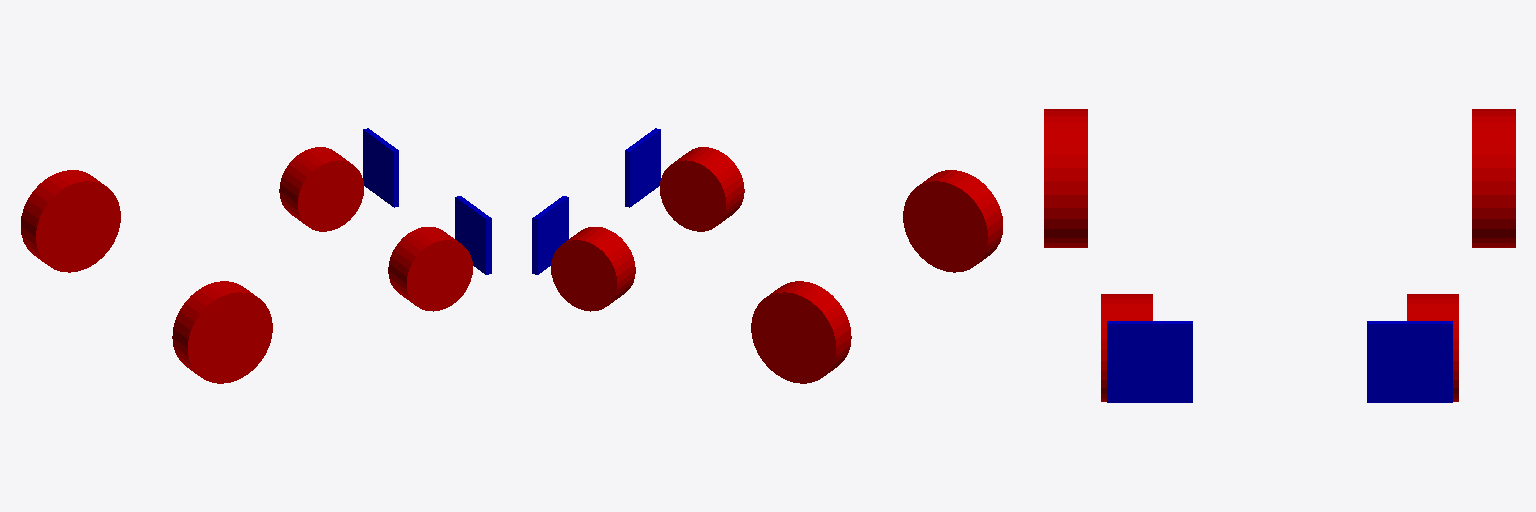
robot.urdf — albert:
<?xml version="1.0" encoding="utf-8"?>
<!-- =================================================================================== -->
<!-- |    This document was autogenerated by xacro from mmrobot.urdf.xacro             | -->
<!-- |    EDITING THIS FILE BY HAND IS NOT RECOMMENDED                                 | -->
<!-- =================================================================================== -->
<robot name="albert">
  <material name="Boxer_Black">
    <color rgba="0.1 0.1 0.1 1.0"/>
  </material>
  <material name="Boxer_Blue">
    <color rgba="0.0 0.0 0.8 1.0"/>
  </material>
  <material name="Boxer_Purple">
    <color rgba="0.6 0.0 0.6 1.0"/>
  </material>
  <material name="Boxer_Green">
    <color rgba="0.0 0.8 0.0 1.0"/>
  </material>
  <material name="Boxer_LimeGreen">
    <color rgba="0.3 0.8 0.3 1.0"/>
  </material>
  <material name="Boxer_Grey">
    <color rgba="0.5 0.5 0.5 1.0"/>
  </material>
  <material name="Boxer_DarkGrey">
    <color rgba="0.3 0.3 0.3 1.0"/>
  </material>
  <material name="Boxer_Red">
    <color rgba="0.8 0.0 0.0 1.0"/>
  </material>
  <material name="Boxer_Pink">
    <color rgba="0.8 0.4 0.8 1.0"/>
  </material>
  <material name="Boxer_White">
    <color rgba="1.0 1.0 1.0 1.0"/>
  </material>
  <material name="Boxer_Yellow">
    <color rgba="0.8 0.8 0.0 1.0"/>
  </material>
  <material name="Boxer_GreyTransparent">
    <color rgba="0.5 0.5 0.5 0.5"/>
  </material>
  <link name="chassis_link">
    <inertial>
      <origin rpy="0 0 0" xyz="0 0 0.07"/>
      <mass value="250"/>
      <inertia ixx="2.3" ixy="0" ixz="0" iyy="3.35" iyz="0.00" izz="1.22"/>
    </inertial>
    <visual>
      <origin rpy="0 0 0" xyz="0 0 0"/>
      <geometry>
        <mesh filename="meshes/visual/chassis_link.dae"/>
      </geometry>
      <material name="">
        <color rgba="0.8 0.8 0.9 1"/>
      </material>
    </visual>
    <collision>
      <origin rpy="0 0 0" xyz="0 0 0"/>
      <geometry>
        <mesh filename="meshes/collision/chassis_link.STL"/>
      </geometry>
    </collision>
  </link>
  <!-- 0.27 in z direction because extrusion is 0.30, and plate is 0.1 -->
  <link name="rotacastor_right_link">
    <inertial>
      <origin rpy="0 0 0" xyz="0 0 0"/>
      <mass value="1"/>
      <inertia ixx="0.2" ixy="0" ixz="0" iyy="0.2" iyz="0" izz="0.2"/>
    </inertial>
    <visual>
      <origin rpy="0 1.5708 0" xyz="0 0 0"/>
      <geometry>
        <cylinder length="0.06" radius="0.0625"/>
      </geometry>
      <material name="Boxer_Red"/>
    </visual>
    <collision>
      <origin rpy="0 1.5708 0" xyz="0 0 0"/>
      <geometry>
        <cylinder length="0.001" radius="0.0625"/>
      </geometry>
    </collision>
  </link>
  <joint name="rotacastor_right_joint" type="continuous">
    <origin rpy="0 0 0" xyz="-0.177 -0.274 0.043"/>
    <parent link="chassis_link"/>
    <child link="rotacastor_right_link"/>
    <axis xyz="1 0 0"/>
    <dynamics damping="1.0"/>
  </joint>
  <link name="rotacastor_left_link">
    <inertial>
      <origin rpy="0 0 0" xyz="0 0 0"/>
      <mass value="1"/>
      <inertia ixx="0.2" ixy="0" ixz="0" iyy="0.2" iyz="0" izz="0.2"/>
    </inertial>
    <visual>
      <origin rpy="0 1.5708 0" xyz="0 0 0"/>
      <geometry>
        <cylinder length="0.06" radius="0.0625"/>
      </geometry>
      <material name="Boxer_Red"/>
    </visual>
    <collision>
      <origin rpy="0 1.5708 0" xyz="0 0 0"/>
      <geometry>
        <cylinder length="0.001" radius="0.0625"/>
      </geometry>
    </collision>
  </link>
  <joint name="rotacastor_left_joint" type="continuous">
    <origin rpy="0 0 0" xyz="0.177 -0.274 0.043"/>
    <parent link="chassis_link"/>
    <child link="rotacastor_left_link"/>
    <axis xyz="1 0 0"/>
    <dynamics damping="1.0"/>
  </joint>
  <link name="wheel_right_link">
    <inertial>
      <origin rpy="0 0 0" xyz="0 0 0"/>
      <mass value="10"/>
      <inertia ixx="0.2" ixy="0" ixz="0" iyy="0.2" iyz="0" izz="0.2"/>
    </inertial>
    <visual>
      <origin rpy="0 1.5708 0" xyz="0 0 0"/>
      <geometry>
        <cylinder length="0.05" radius="0.080"/>
      </geometry>
      <material name="Boxer_Red"/>
    </visual>
    <collision>
      <origin rpy="0 1.5708 0" xyz="0 0 0"/>
      <geometry>
        <cylinder length="0.001" radius="0.080"/>
      </geometry>
    </collision>
  </link>
  <joint name="wheel_right_joint" type="continuous">
    <origin rpy="0 0 0" xyz="-0.247 0.157 0.058"/>
    <parent link="chassis_link"/>
    <child link="wheel_right_link"/>
    <axis xyz="1 0 0"/>
    <limit effort="10000" velocity="1000"/>
    <dynamics damping="1.0"/>
  </joint>
  <link name="wheel_left_link">
    <inertial>
      <origin rpy="0 0 0" xyz="0 0 0"/>
      <mass value="10"/>
      <inertia ixx="0.2" ixy="0" ixz="0" iyy="0.2" iyz="0" izz="0.2"/>
    </inertial>
    <visual>
      <origin rpy="0 1.5708 0" xyz="0 0 0"/>
      <geometry>
        <cylinder length="0.05" radius="0.080"/>
      </geometry>
      <material name="Boxer_Red"/>
    </visual>
    <collision>
      <origin rpy="0 1.5708 0" xyz="0 0 0"/>
      <geometry>
        <cylinder length="0.001" radius="0.080"/>
      </geometry>
    </collision>
  </link>
  <joint name="wheel_left_joint" type="continuous">
    <origin rpy="0 0 0" xyz="0.247 0.157 0.058"/>
    <parent link="chassis_link"/>
    <child link="wheel_left_link"/>
    <axis xyz="1 0 0"/>
    <limit effort="10000" velocity="1000"/>
    <dynamics damping="1.0"/>
  </joint>
  <!-- Base link with no geometry or inertia, because KDL needs it
to be that way. -->
  <link name="base_link_ori">
    <inertial>
      <origin rpy="0 0 0" xyz="0 0 0"/>
      <mass value="0.001"/>
      <inertia ixx="0.2" ixy="0" ixz="0" iyy="0.2" iyz="0" izz="0.2"/>
    </inertial>
  </link>
  <link name="base_link">
    <inertial>
      <origin rpy="0 0 0" xyz="0 0 0"/>
      <mass value="1"/>
      <inertia ixx="0.2" ixy="0" ixz="0" iyy="0.2" iyz="0" izz="0.2"/>
    </inertial>
  </link>
  <joint name="base_chassis_joint" type="fixed">
    <origin rpy="0 0 0" xyz="0 0 0"/>
    <parent link="base_link"/>
    <child link="chassis_link"/>
  </joint>
  <link name="light_sensor_1_link">
    <inertial>
      <origin rpy="0 0 0" xyz="0 0 0"/>
      <mass value="0.01"/>
      <inertia ixx="0.2" ixy="0" ixz="0" iyy="0.2" iyz="0" izz="0.2"/>
    </inertial>
    <visual>
      <origin rpy="0 0 0" xyz="0 0 0"/>
      <geometry>
        <box size="0.1 0.01 0.1"/>
      </geometry>
      <material name="Boxer_Blue"/>
    </visual>
  </link>
  <link name="light_sensor_2_link">
    <inertial>
      <origin rpy="0 0 0" xyz="0 0 0"/>
      <mass value="0.01"/>
      <inertia ixx="0.2" ixy="0" ixz="0" iyy="0.2" iyz="0" izz="0.2"/>
    </inertial>
    <visual>
      <origin rpy="0 0 0" xyz="0 0 0"/>
      <geometry>
        <box size="0.1 0.01 0.1"/>
      </geometry>
      <material name="Boxer_Blue"/>
    </visual>
  </link>
  <joint name="light_sensor_1_joint" type="fixed">
    <origin rpy="0 0 0" xyz="0.15 -0.37 0.07"/>
    <parent link="base_link"/>
    <child link="light_sensor_1_link"/>
  </joint>
  <joint name="light_sensor_2_joint" type="fixed">
    <origin rpy="0 0 0" xyz="-0.15 -0.37 0.07"/>
    <parent link="base_link"/>
    <child link="light_sensor_2_link"/>
  </joint>
  <joint name="base_add_orientation" type="fixed">
    <origin rpy="0 0 1.57079" xyz="0.0 0 0"/>
    <parent link="base_link_ori"/>
    <child link="base_link"/>
  </joint>
  <!-- end for simulation -->
</robot>

--- Render facts (derived) ---
3 views of the same robot in one strip: view 1: azimuth 30°, elevation 25°; view 2: azimuth 150°, elevation 25°; view 3: azimuth 270°, elevation 25° (orthographic).
Model albert with 9 links and 8 joints (4 continuous, 4 fixed), rooted at base_link_ori, posed all joints at 0.
Visible links, largest first — view 1: wheel_right_link, wheel_left_link, rotacastor_right_link, rotacastor_left_link, light_sensor_1_link, light_sensor_2_link; view 2: wheel_left_link, wheel_right_link, rotacastor_left_link, rotacastor_right_link, light_sensor_2_link, light_sensor_1_link; view 3: light_sensor_1_link, light_sensor_2_link, wheel_right_link, wheel_left_link, rotacastor_right_link, rotacastor_left_link.
Link boxes in pixels (box(x1,y1,x2,y2)): wheel_right_link: box(172, 281, 272, 383); wheel_left_link: box(21, 170, 120, 272); rotacastor_right_link: box(388, 227, 472, 311); rotacastor_left_link: box(279, 147, 363, 231); light_sensor_1_link: box(363, 128, 398, 207); light_sensor_2_link: box(455, 196, 491, 274); wheel_left_link: box(751, 281, 851, 383); wheel_right_link: box(903, 170, 1002, 272); rotacastor_left_link: box(551, 227, 635, 311); rotacastor_right_link: box(660, 147, 744, 231); light_sensor_2_link: box(625, 128, 660, 207); light_sensor_1_link: box(532, 196, 568, 274); light_sensor_1_link: box(1367, 321, 1452, 402); light_sensor_2_link: box(1107, 321, 1192, 402); wheel_right_link: box(1044, 109, 1087, 247); wheel_left_link: box(1472, 109, 1515, 247); rotacastor_right_link: box(1101, 294, 1152, 401); rotacastor_left_link: box(1407, 294, 1458, 401).
Size in the robot's own frame: 0.612 by 0.544 by 0.16 metres.
0 mesh visuals loaded from 1 distinct referenced files (none loaded); not drawn: 1 (reference not matched to a file when rendering).
